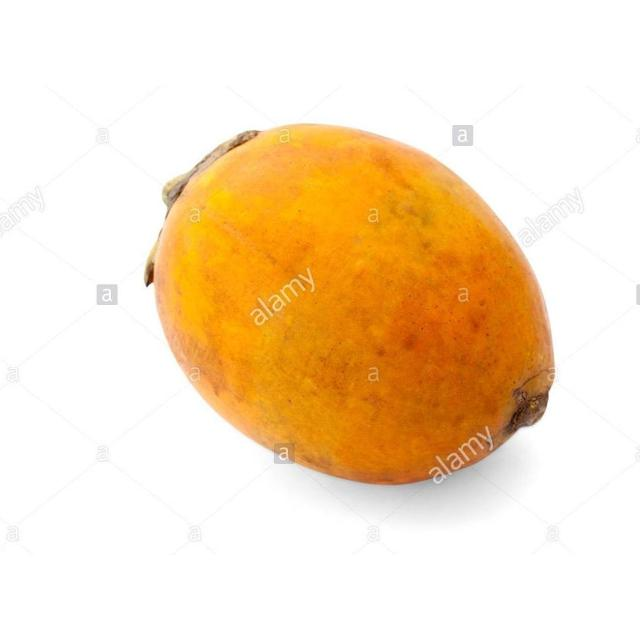good: (147, 123, 558, 488)
